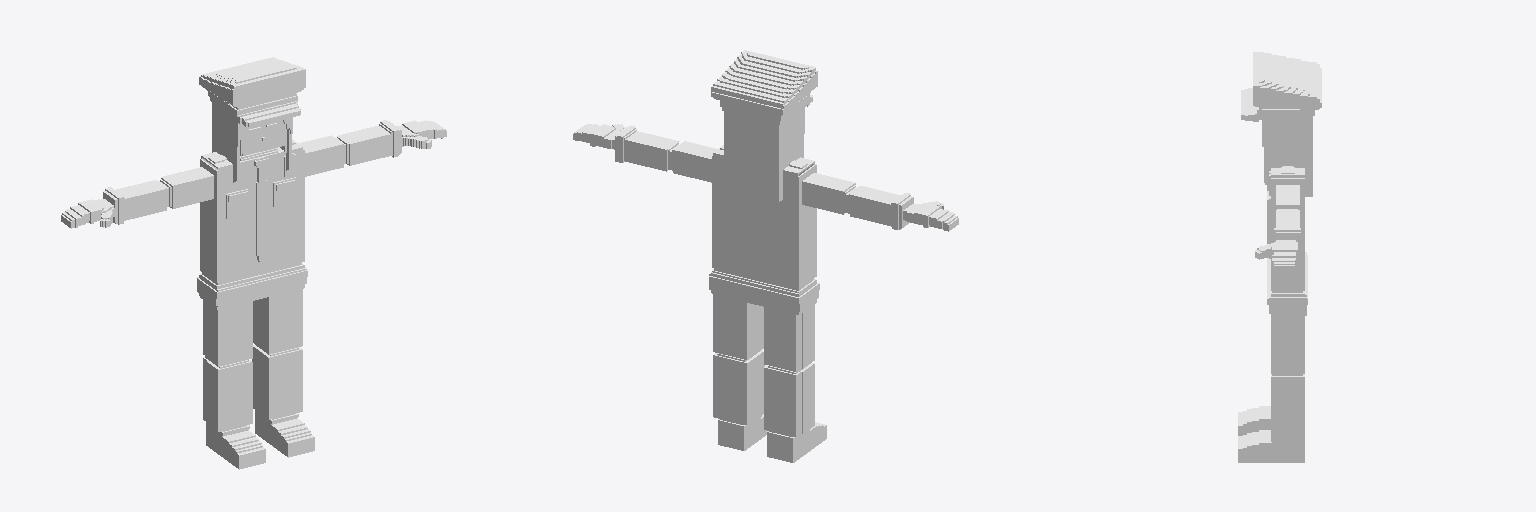
File: cop5.obj
3 views of the same model, side by side, from view 1: azimuth 30°, elevation 25°; view 2: azimuth 150°, elevation 25°; view 3: azimuth 270°, elevation 25° (orthographic).
Parts seen in each view (by area): view 1: object 1; view 2: object 1; view 3: object 1.
Part boxes in pixels (x1,y1,x2,y2): object 1: (61,57,446,469); object 1: (573,50,958,462); object 1: (1238,52,1321,462).
Bounding box in the file's own units: 25.3 × 24.3 × 4.9.